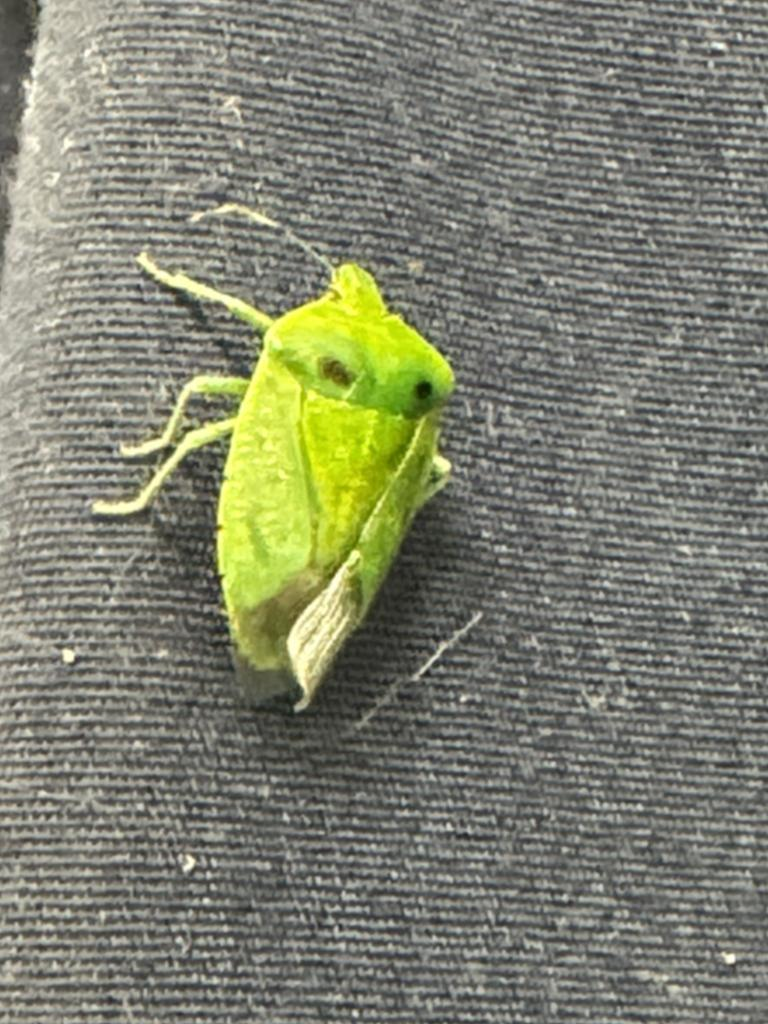stink_bugs: (56, 125, 596, 769)
